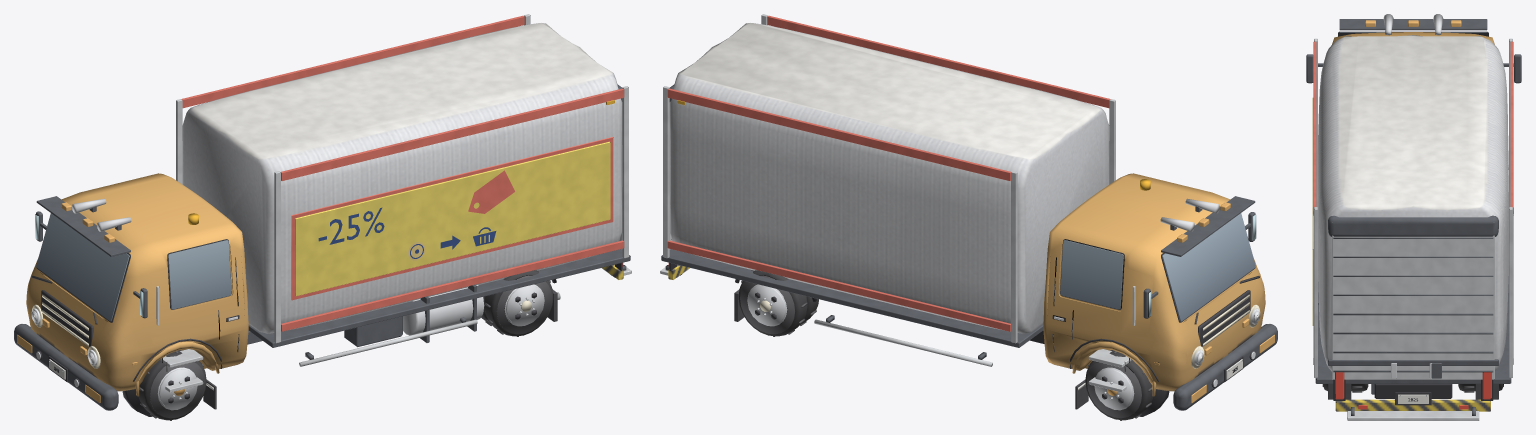
Rendered from Rig_BoxTruck.fbx.
3 renders of one model, left to right at view 1: azimuth 30°, elevation 25°; view 2: azimuth 150°, elevation 25°; view 3: azimuth 270°, elevation 25°, orthographic.
Parts seen in each view (by area): view 1: Ofertas_BoxTruck__Body, Ofertas_BoxTruck__Wheel_F_L, Ofertas_BoxTruck__Wheel_R_L; view 2: Ofertas_BoxTruck__Body, Ofertas_BoxTruck__Wheel_F_R, Ofertas_BoxTruck__Wheel_R_R; view 3: Ofertas_BoxTruck__Body.
Part boxes in pixels (box(x1,y1,x2,y2)): Ofertas_BoxTruck__Body: box(14, 14, 631, 416); Ofertas_BoxTruck__Wheel_F_L: box(138, 349, 206, 420); Ofertas_BoxTruck__Wheel_R_L: box(481, 270, 553, 336); Ofertas_BoxTruck__Body: box(660, 14, 1277, 416); Ofertas_BoxTruck__Wheel_F_R: box(1085, 349, 1153, 420); Ofertas_BoxTruck__Wheel_R_R: box(738, 270, 818, 336); Ofertas_BoxTruck__Body: box(1306, 14, 1521, 420).
Size of the model in its own units: 8 by 3.36 by 2.77.
